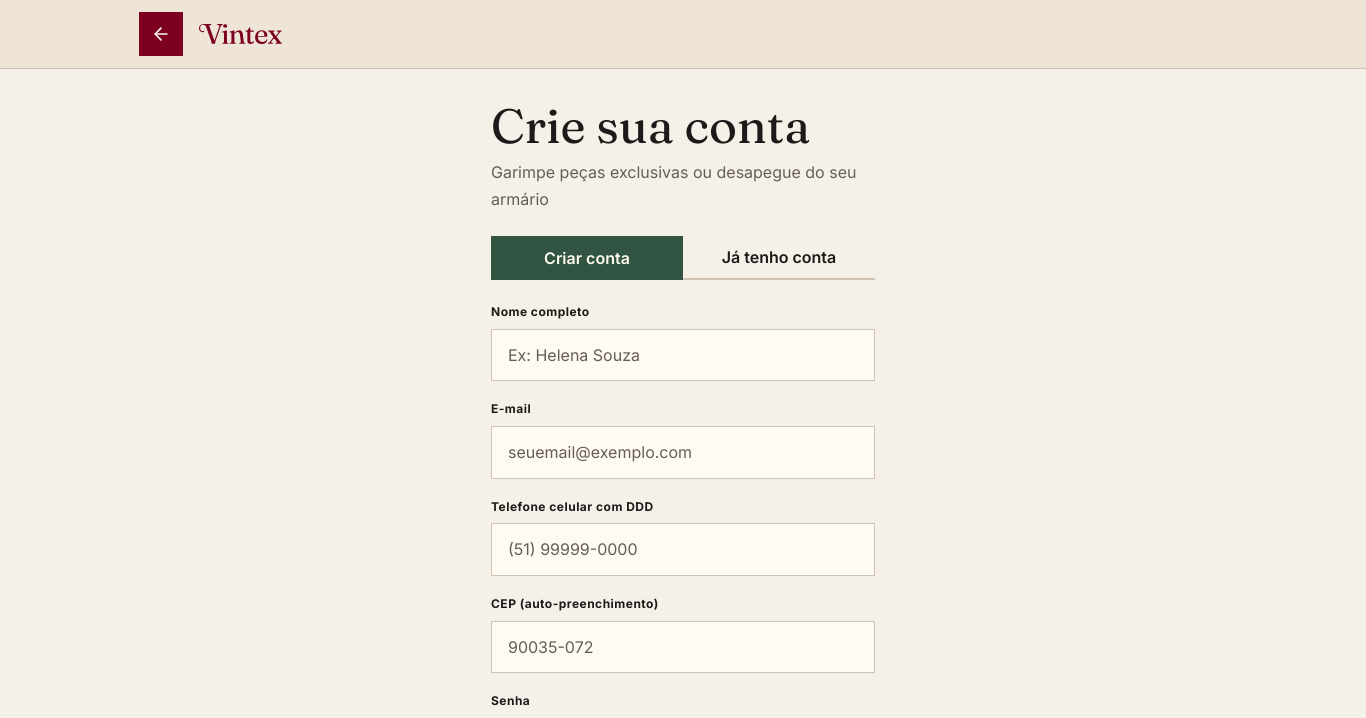
Test: <Register /> › resolve o endereço ao digitar um CEP válido
In the field labelled "CEP (auto-preenchimento)": (683, 647) left=491, top=620, right=875, bottom=673, type "90035072"
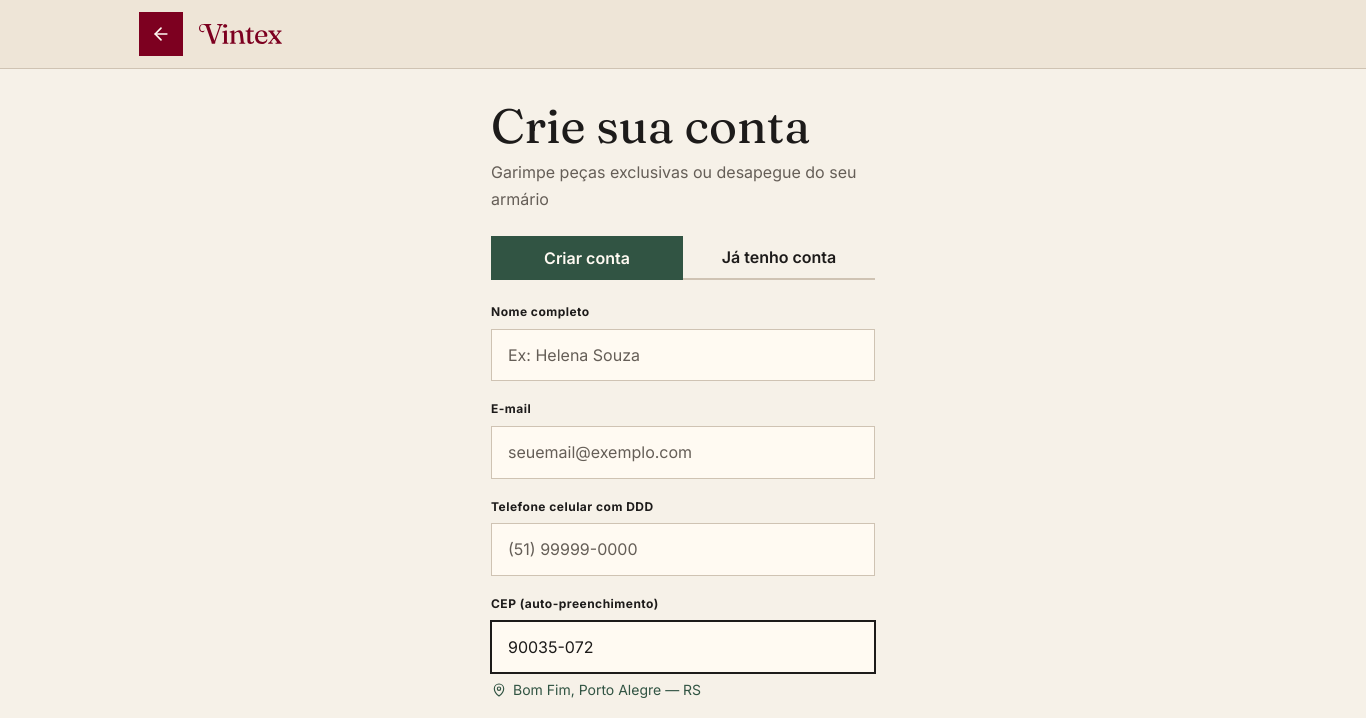
Expected: the text "Bom Fim, Porto Alegre — RS" is shown, left=491, top=681, right=701, bottom=698
